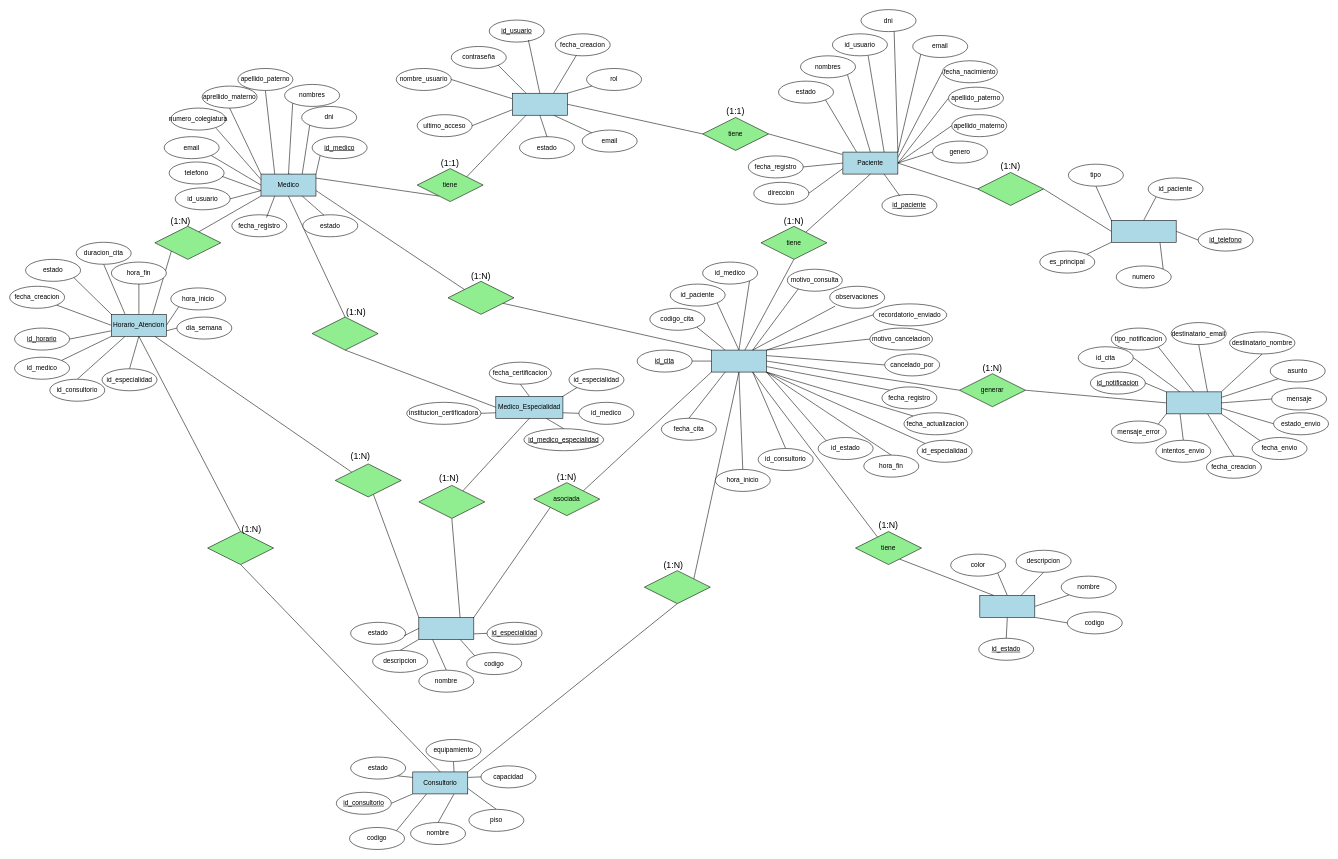
Image size: 1338x859. Some labels were removed from this diagram. Here are the shapes that lost their labels. From the top down, the box of each, then its label:
(512, 93, 567, 115): Usuario
(977, 172, 1044, 205): registra
(154, 226, 221, 259): configura
(1111, 220, 1176, 242): Paciente_Telefono
(447, 281, 514, 314): atender
(312, 317, 378, 350): tener
(711, 350, 766, 372): Cita
(1166, 391, 1221, 414): Notificacion
(335, 463, 401, 497): asociados
(418, 485, 485, 518): ejercida
(207, 531, 274, 565): usado
(644, 570, 710, 604): alberga
(979, 595, 1035, 617): Estado_Cita
(418, 617, 474, 639): Especialidad
